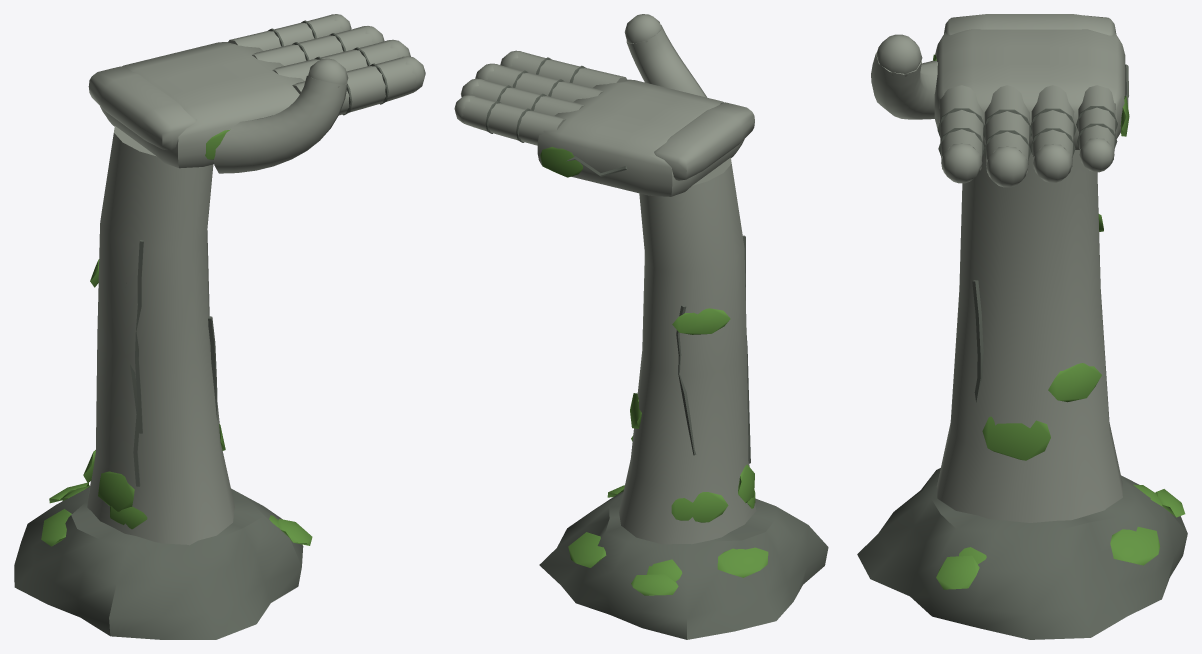
The model's file is golden_hand.glb.
3 views of the same model, side by side, from view 1: azimuth 30°, elevation 25°; view 2: azimuth 150°, elevation 25°; view 3: azimuth 270°, elevation 25° (orthographic). The views are drawn at different scales.
Parts seen in each view (by area): view 1: golden_hand; view 2: golden_hand; view 3: golden_hand.
Part boxes in pixels (<box>): golden_hand: <box>14,14,425,639</box>; golden_hand: <box>454,14,828,639</box>; golden_hand: <box>857,14,1187,639</box>.
Bounding box in the file's own units: 6.58 × 9.39 × 4.79.
